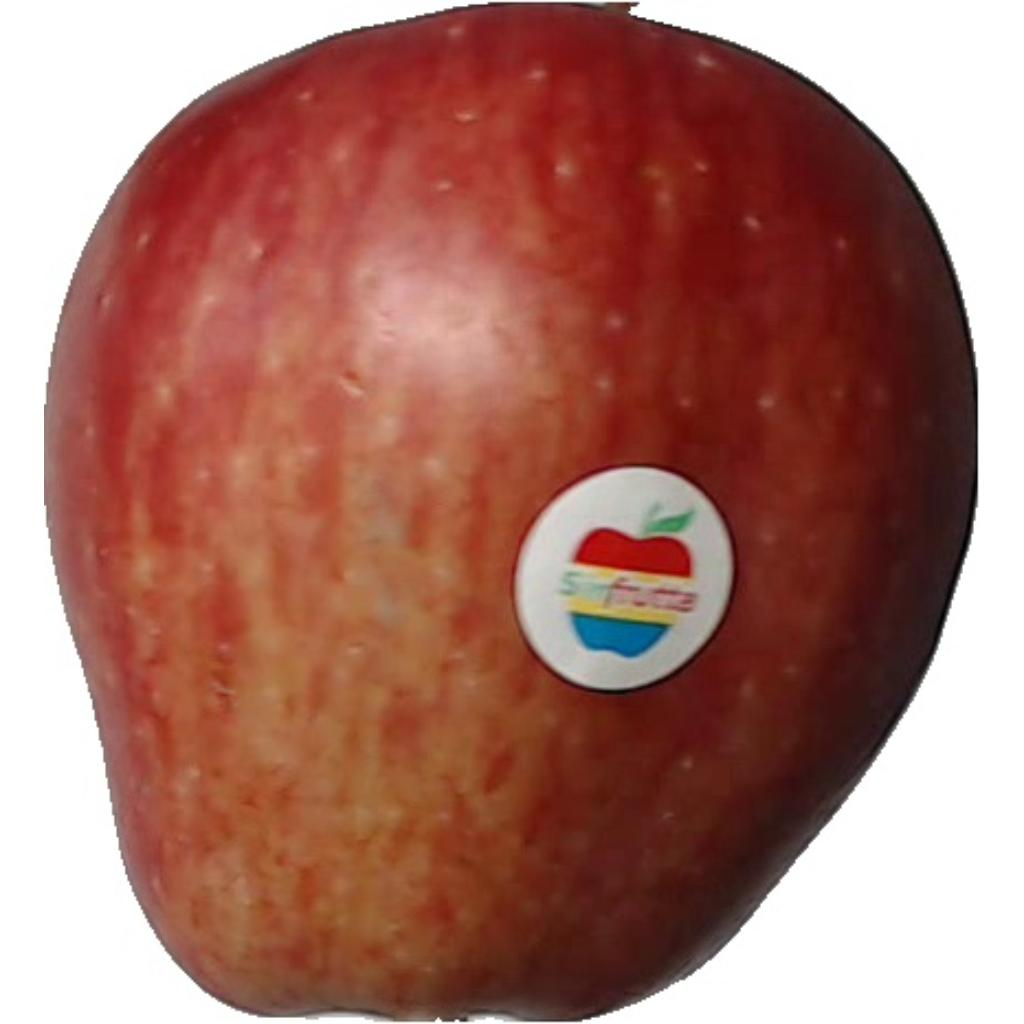apple: (44, 4, 980, 1024)
